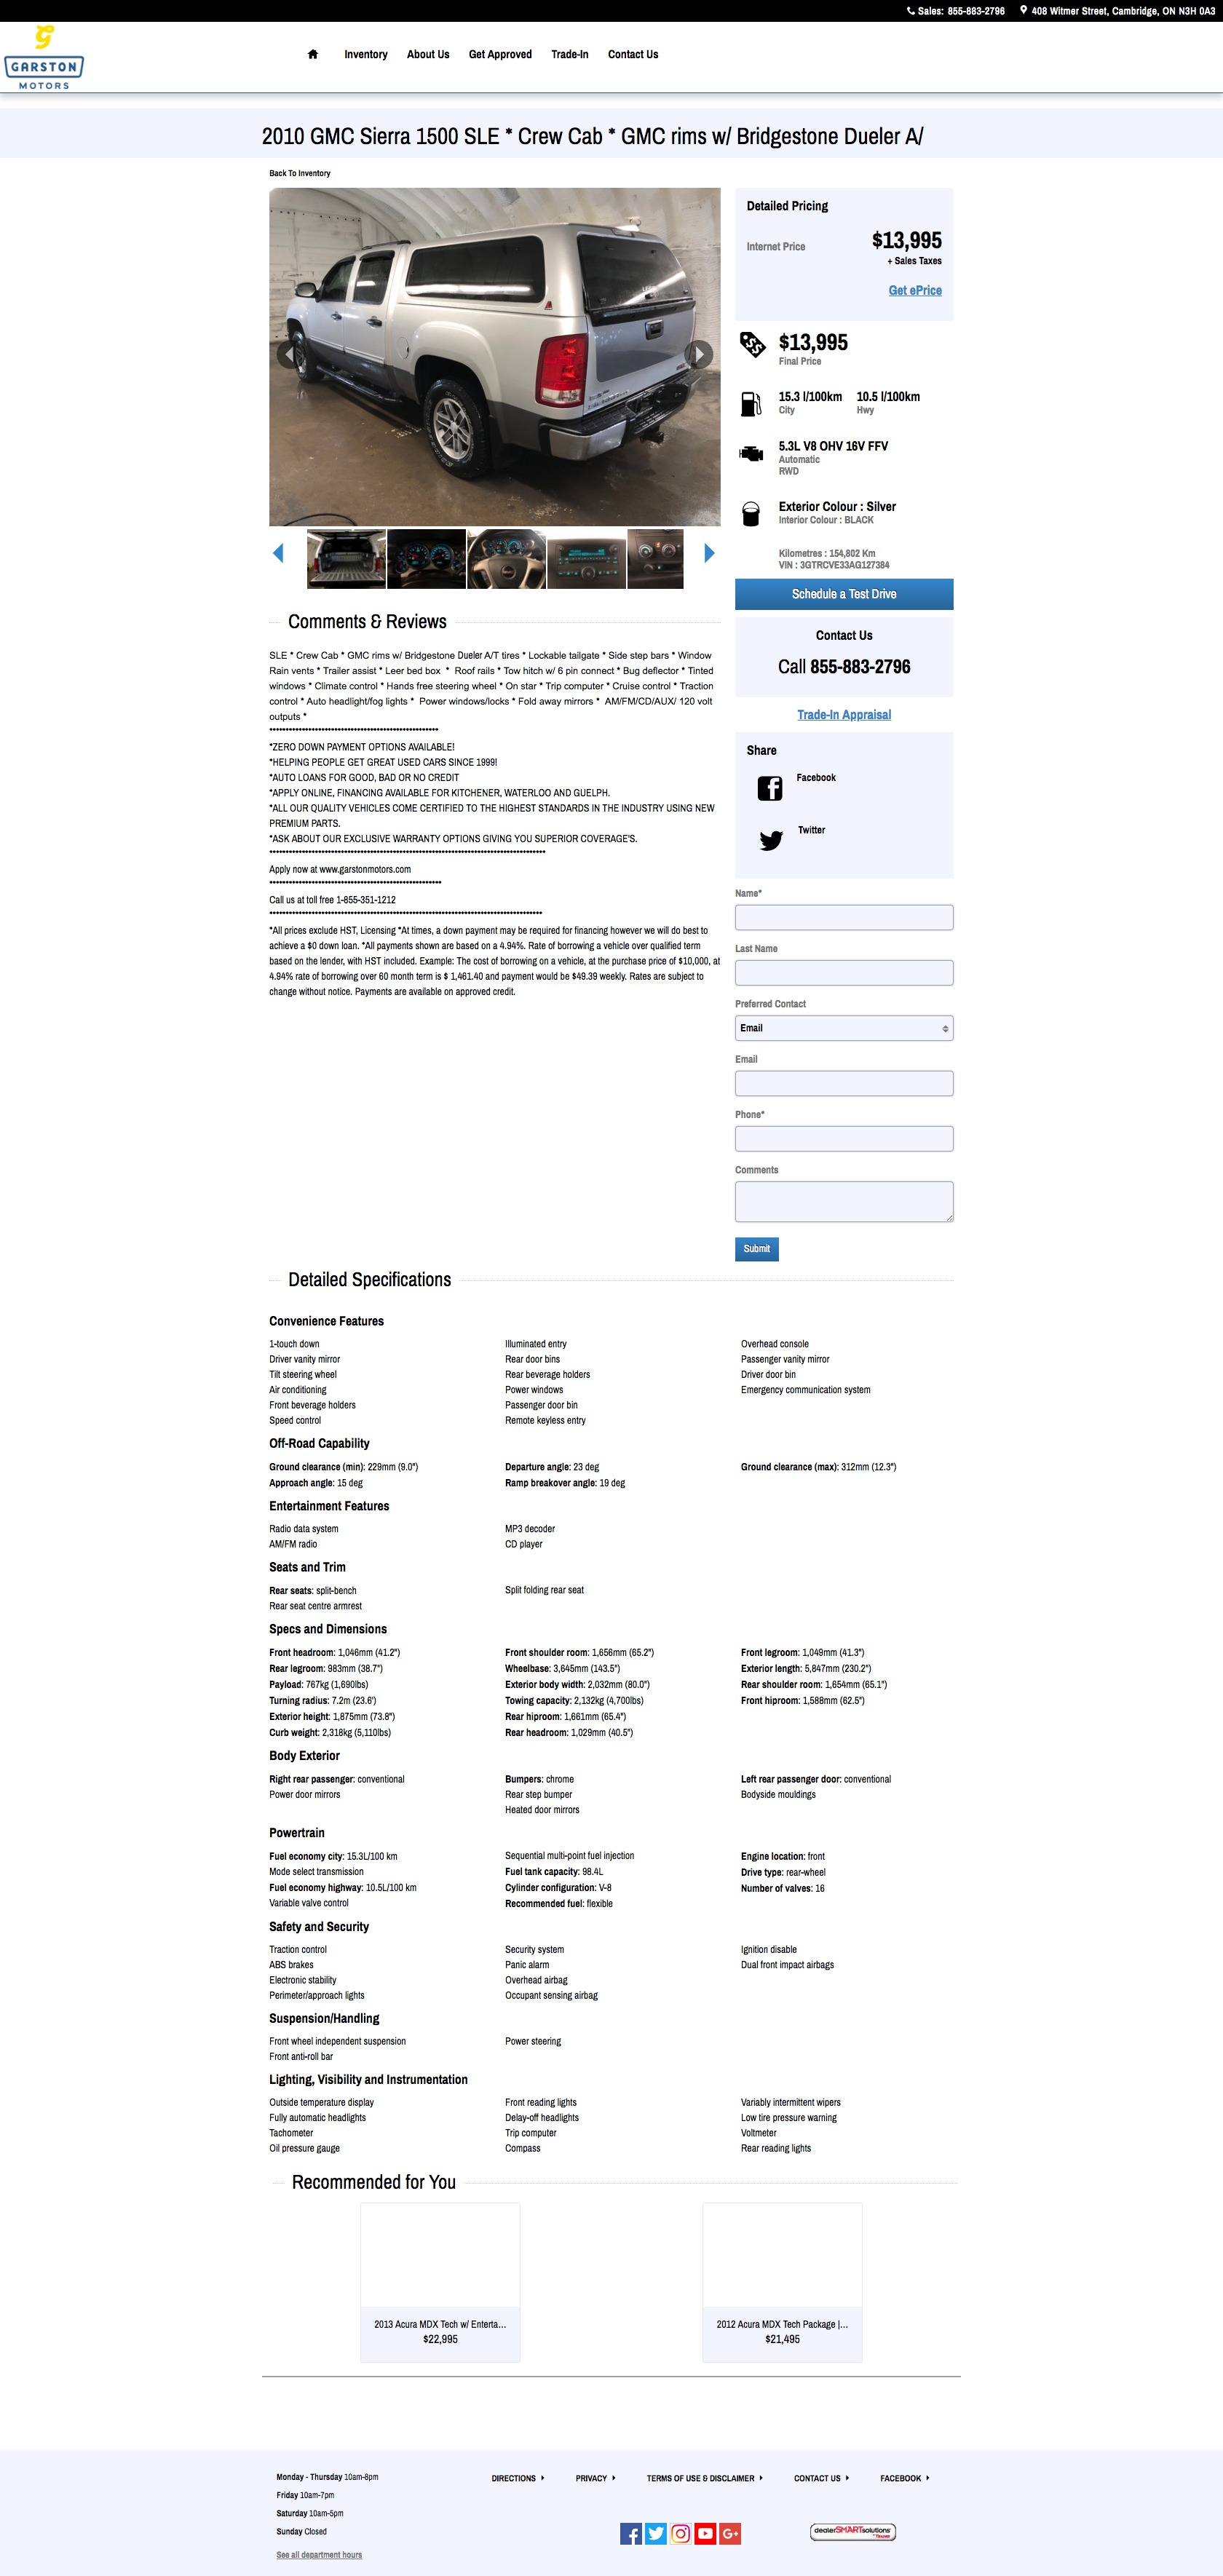car: (705, 544, 715, 564)
